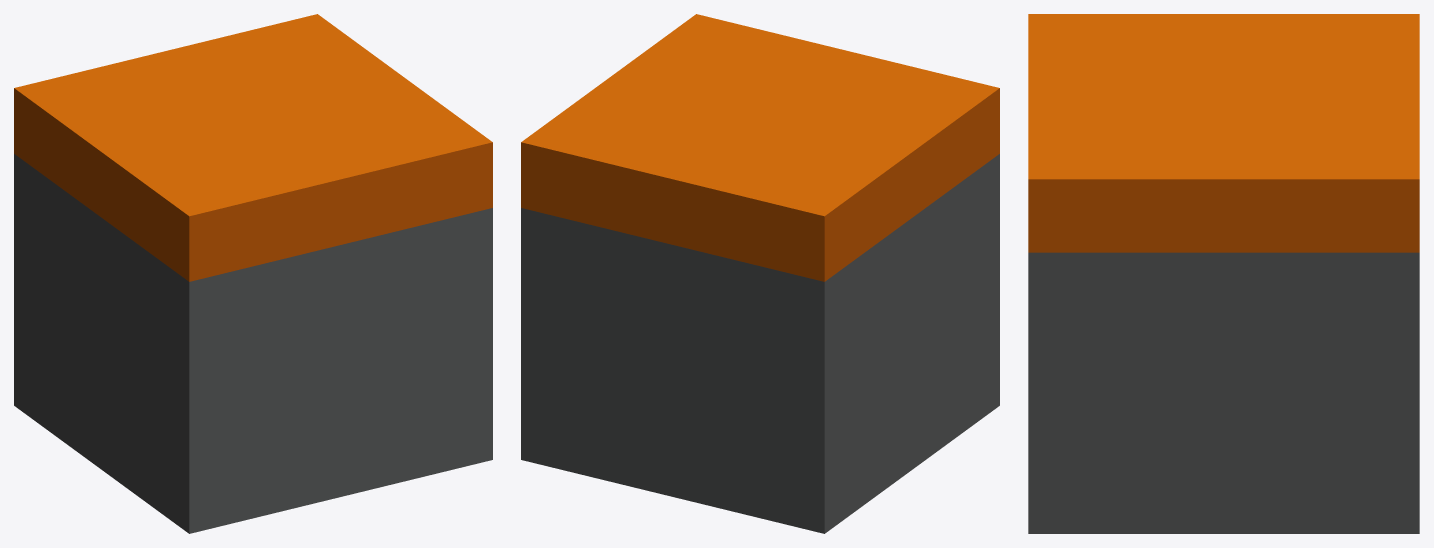
The picture shows the model from 3 angles, left to right: view 1: azimuth 30°, elevation 25°; view 2: azimuth 150°, elevation 25°; view 3: azimuth 270°, elevation 25°; orthographic projection. The views are drawn at different scales.
Parts seen in each view (by area): view 1: top; view 2: top; view 3: top.
Part boxes in pixels (bbox=[...]): top: bbox=[14, 14, 492, 533]; top: bbox=[521, 14, 999, 533]; top: bbox=[1028, 14, 1419, 533].
Size of the model in its own units: 1 by 1 by 1.
